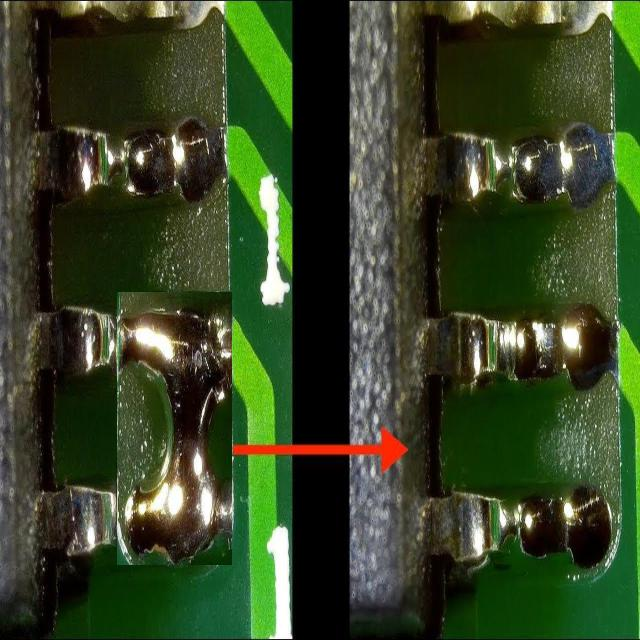Short_circuit: (116, 291, 232, 565)
